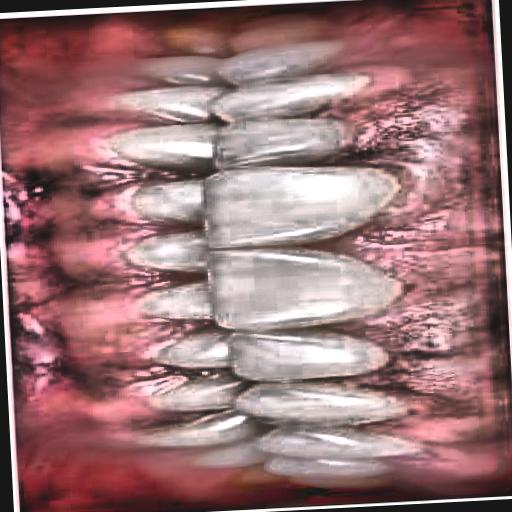Gingivitis: (331, 1, 512, 506)
